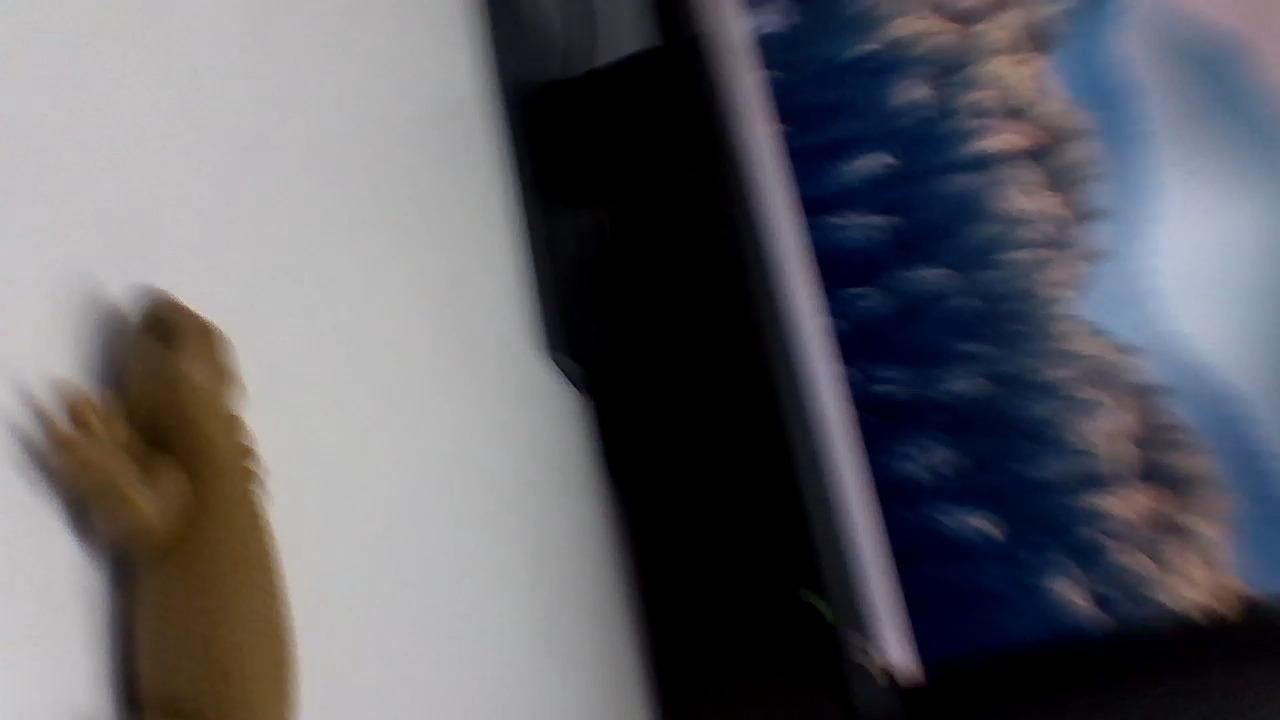lizard: (25, 272, 311, 720)
